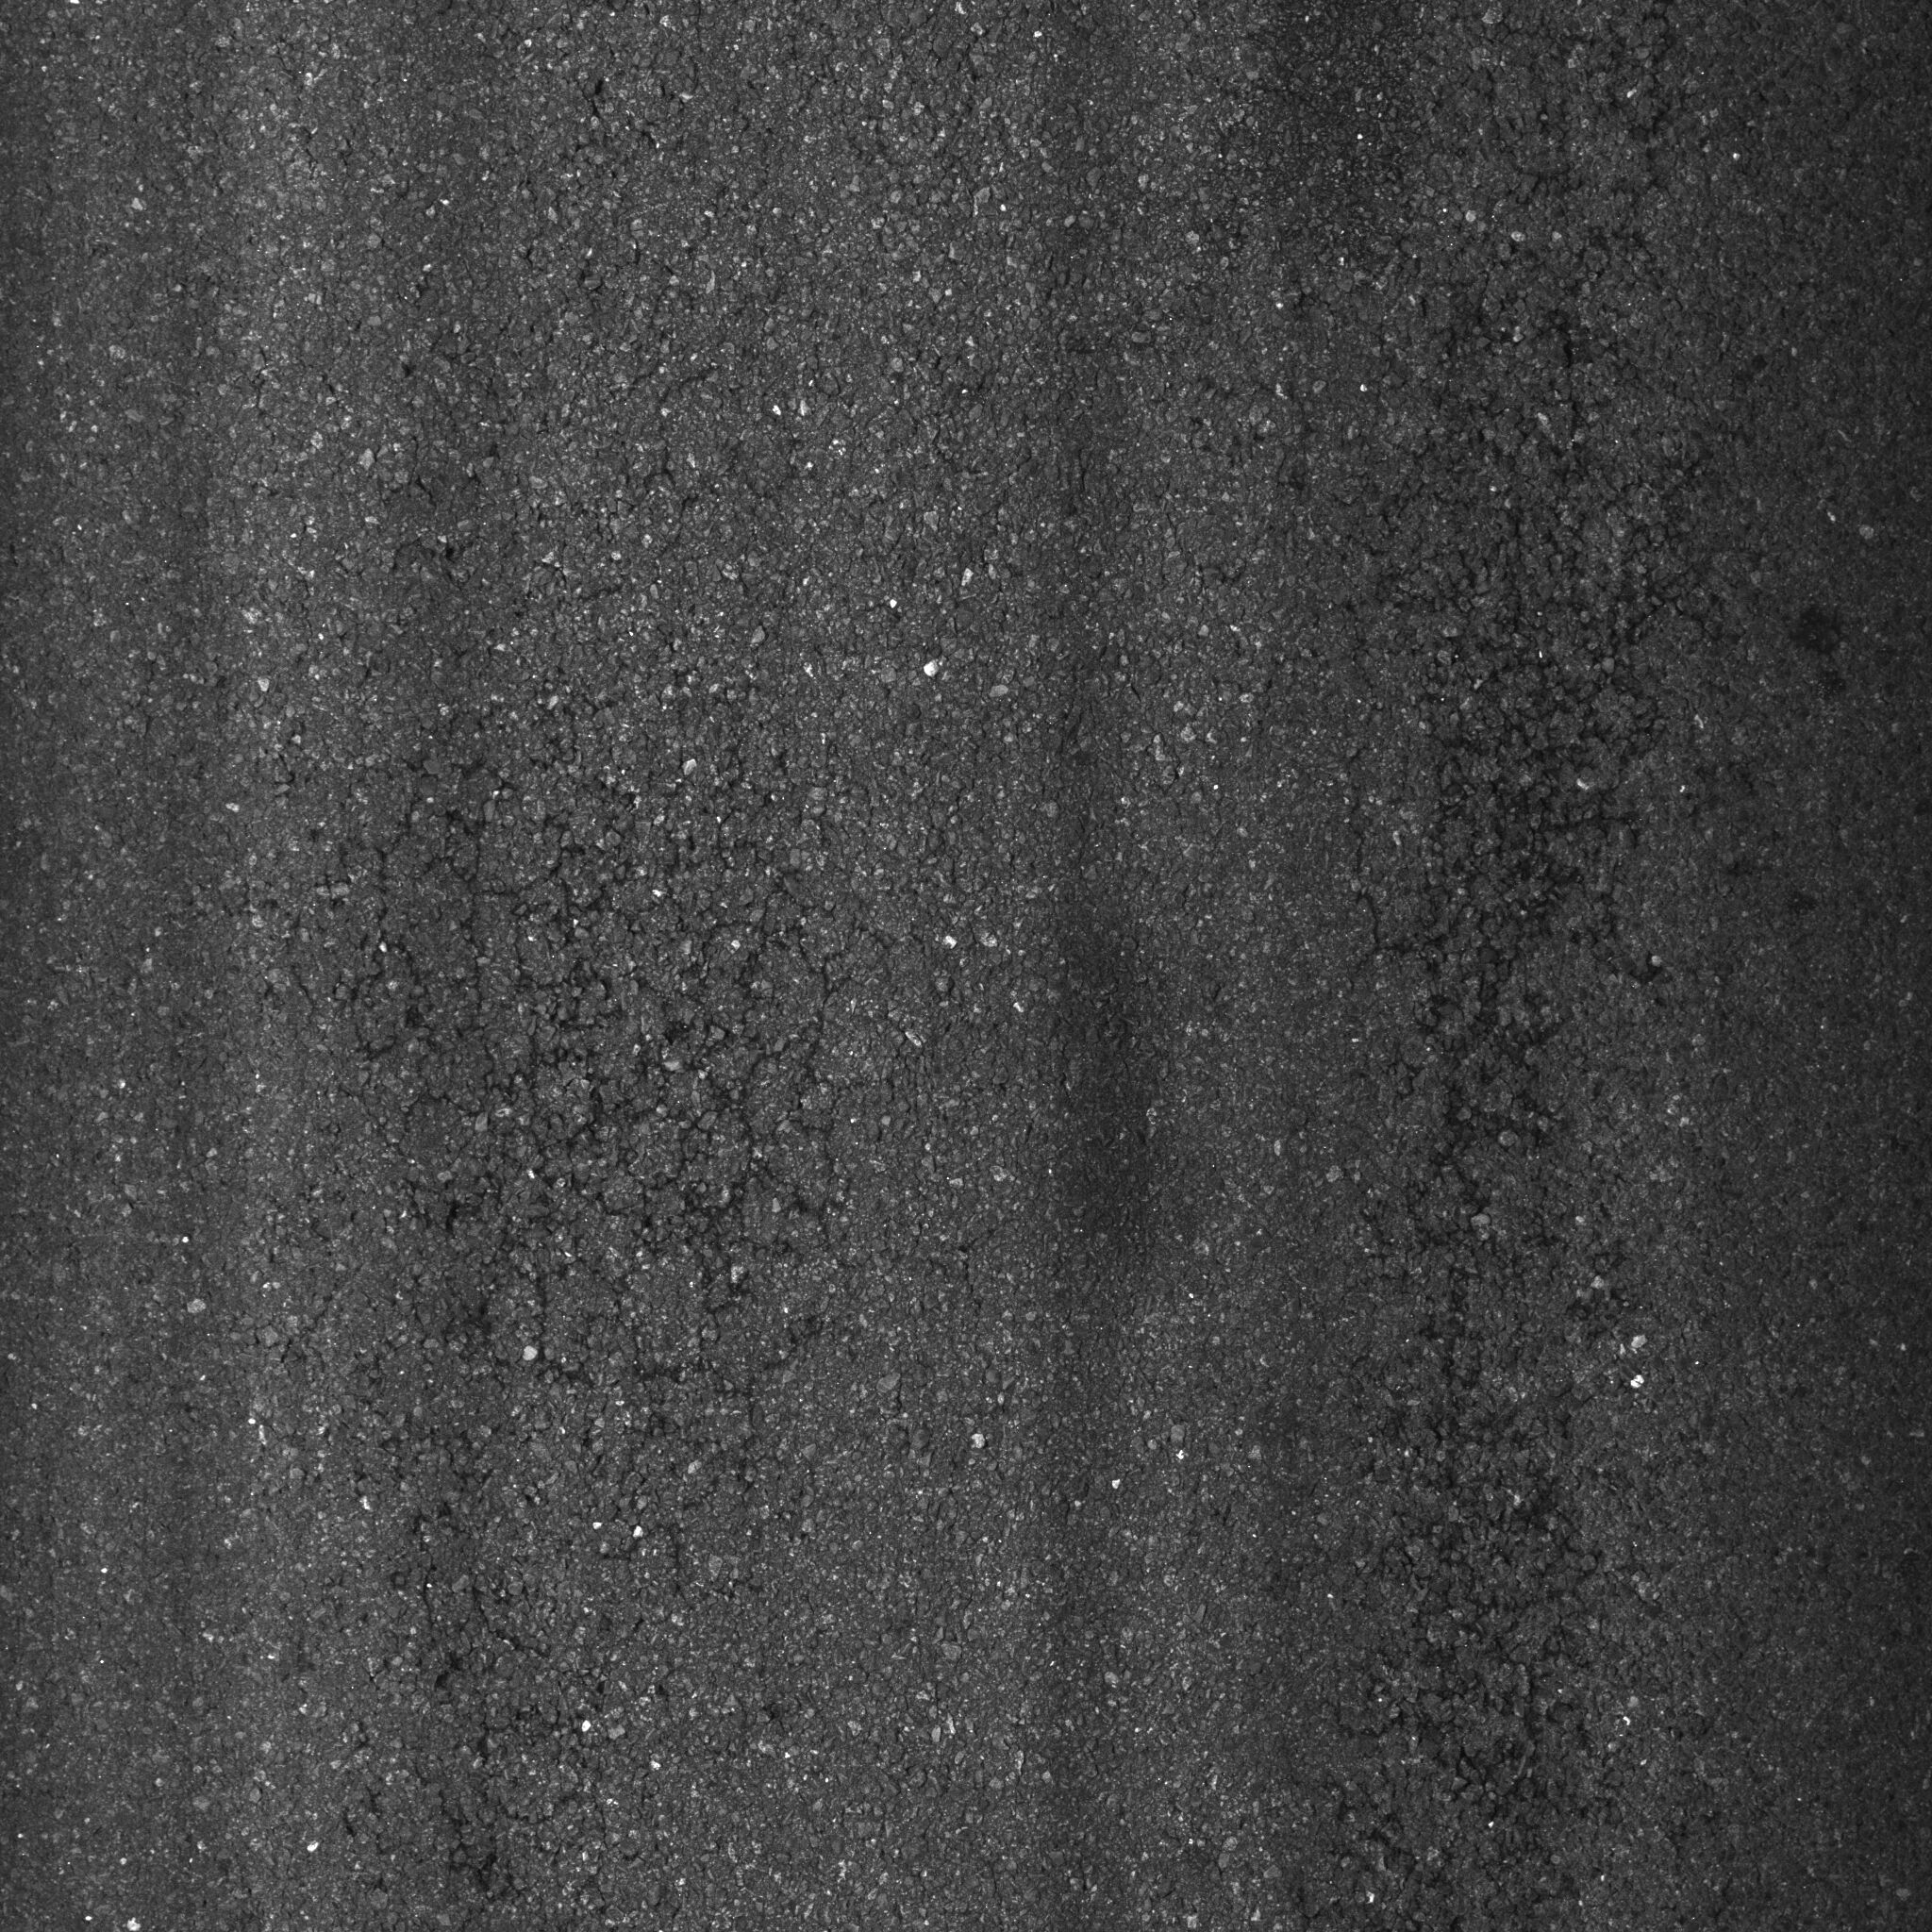alligator: (1277, 28, 1766, 1808), (223, 688, 991, 1695)
